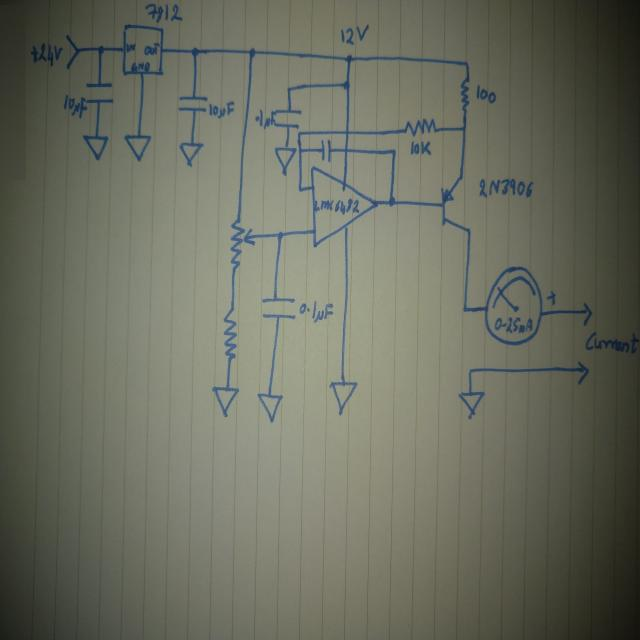capacitor: (261, 296, 297, 321), (84, 78, 115, 105), (274, 107, 302, 130), (178, 94, 208, 115), (319, 138, 333, 162)
crossover: (344, 127, 351, 137), (342, 146, 350, 154)
ground: (328, 379, 358, 417), (212, 384, 240, 420), (256, 391, 284, 424), (458, 390, 487, 420), (123, 133, 153, 162), (81, 132, 109, 162), (274, 144, 297, 177), (178, 140, 204, 168)
junction: (341, 77, 352, 93), (247, 45, 258, 61), (190, 44, 202, 58), (387, 193, 396, 210), (344, 52, 354, 65), (95, 44, 105, 56), (275, 230, 284, 243), (390, 147, 398, 158), (461, 304, 469, 314), (463, 58, 471, 68), (460, 124, 468, 134), (297, 184, 304, 195), (285, 85, 293, 94), (466, 366, 474, 374), (297, 147, 304, 154), (296, 130, 303, 136)
resistor: (228, 218, 256, 271), (222, 305, 238, 362), (403, 116, 437, 138), (459, 75, 470, 114)
terminal: (64, 33, 79, 70), (577, 359, 590, 386), (582, 301, 593, 327)
text: (584, 331, 640, 356), (477, 177, 534, 201), (298, 298, 334, 324), (29, 42, 63, 68), (492, 314, 534, 334), (145, 2, 183, 24), (314, 198, 360, 215), (61, 93, 88, 121), (339, 23, 370, 46), (208, 100, 237, 120), (474, 82, 497, 104), (253, 109, 276, 130), (409, 139, 432, 157), (143, 42, 160, 55), (130, 61, 150, 72), (125, 42, 136, 52)
transistor: (439, 175, 474, 235)
